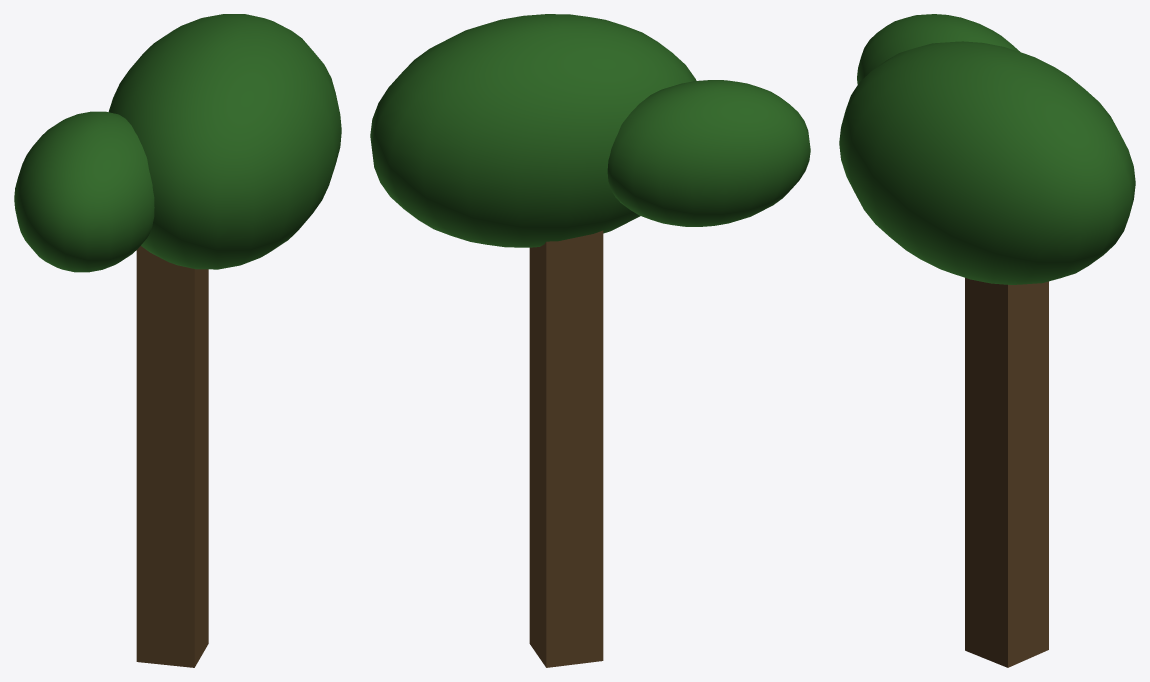
Rendered from SM_ME_Tree_01.fbx.
The picture shows the model from 3 angles, left to right: view 1: azimuth 30°, elevation 25°; view 2: azimuth 150°, elevation 25°; view 3: azimuth 270°, elevation 25°; orthographic projection.
Parts seen in each view (by area): view 1: pCube55; view 2: pCube55; view 3: pCube55.
Boxes of the visible parts, x1,y1,x2,y2 form: pCube55: (14,14,341,667); pCube55: (370,14,810,667); pCube55: (839,14,1135,667).
Size of the model in its own units: 0.3893 by 0.6405 by 0.2818.
